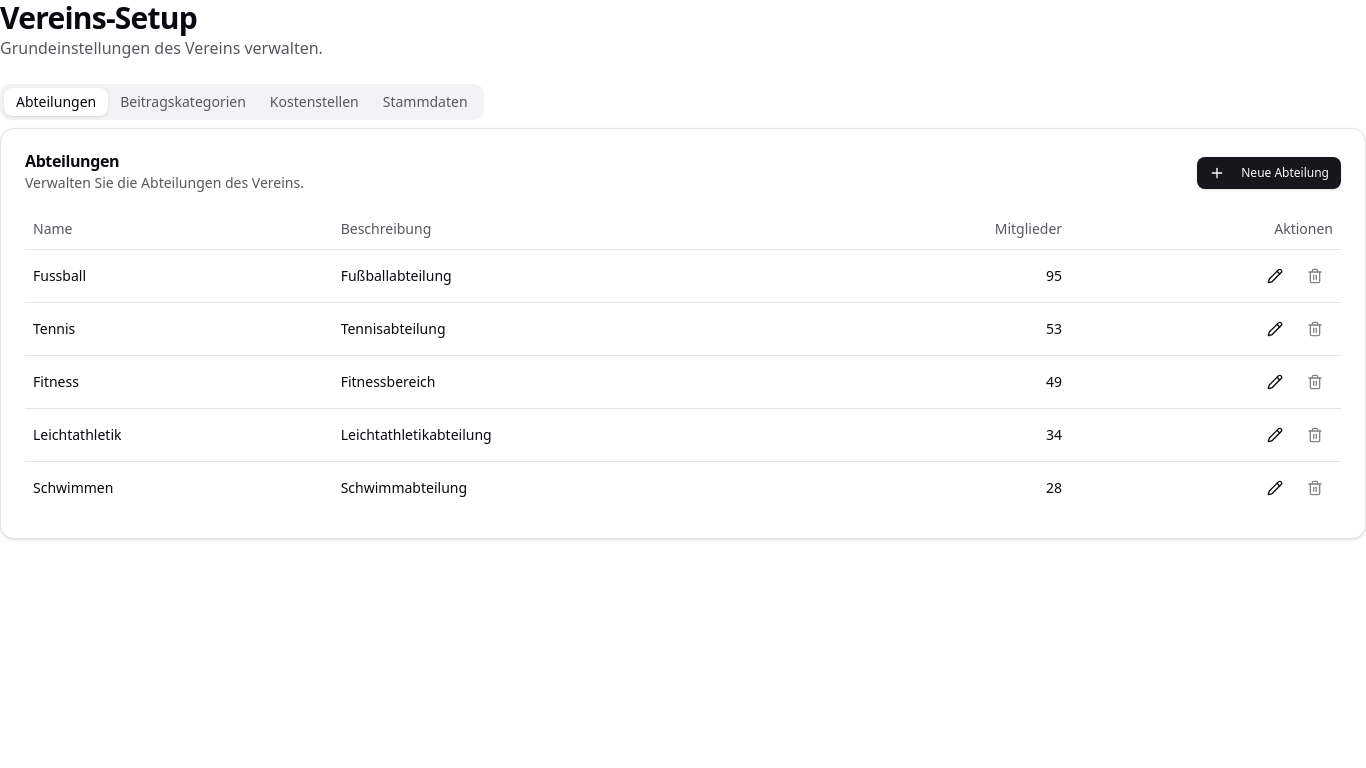
it: VereinsSetupPage › shows 'Neue Abteilung' button that opens dialog
Expected: the text "Fussball" is shown, [25,249,333,302]
Step 1. Click the button "Neue Abteilung" → (1269, 173), box [1197,157,1341,189]
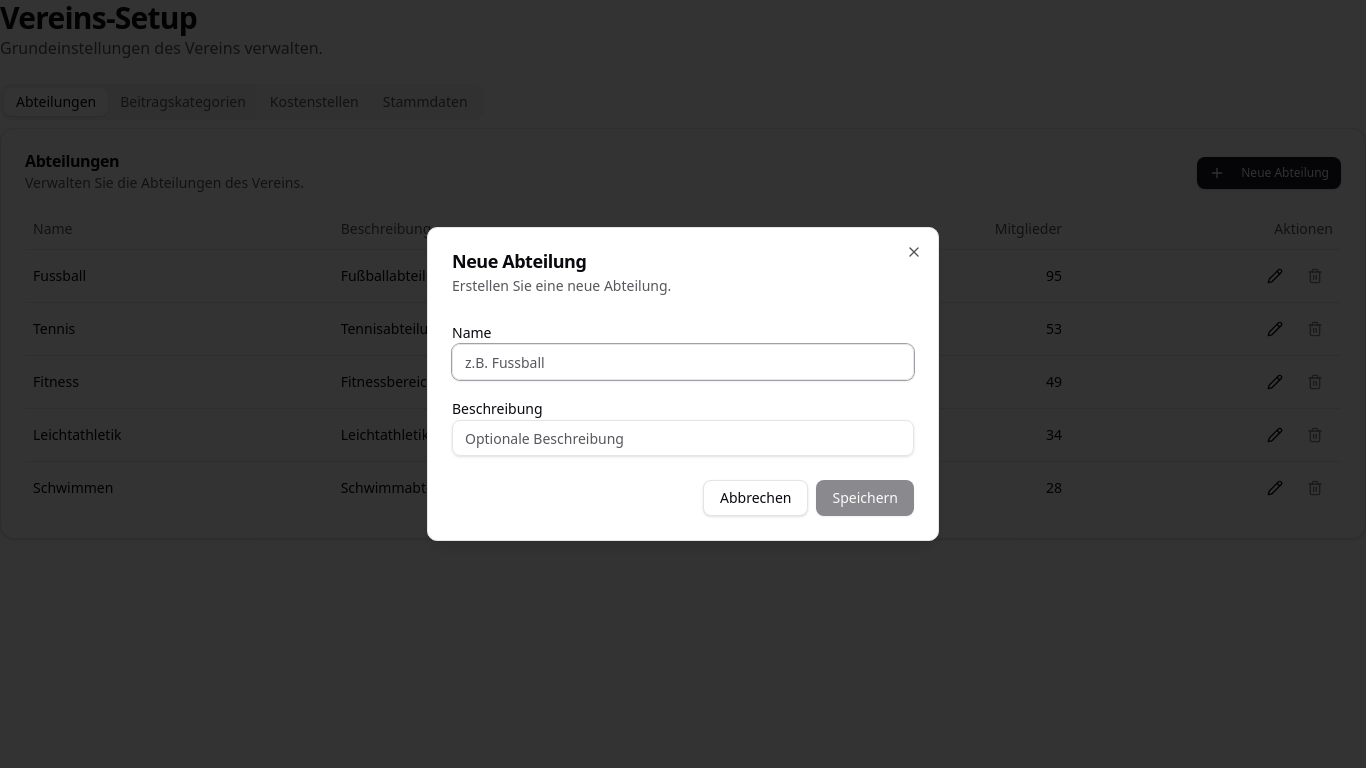
Expected: the heading "Neue Abteilung" is shown, [452,249,586,273]
